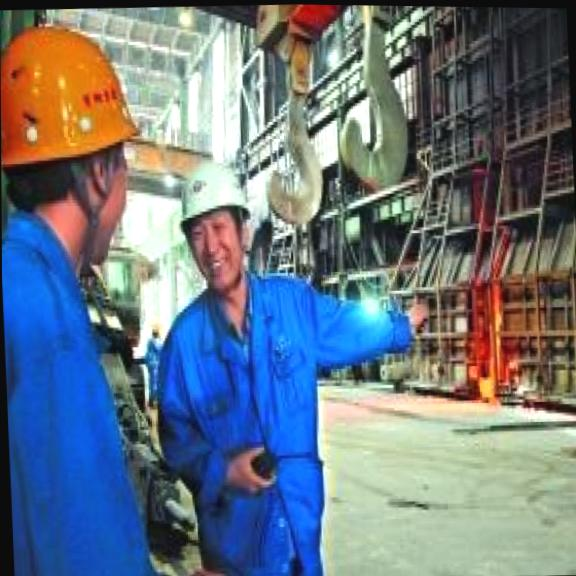no_safety_vest: (2, 212, 179, 576), (149, 265, 341, 576)
